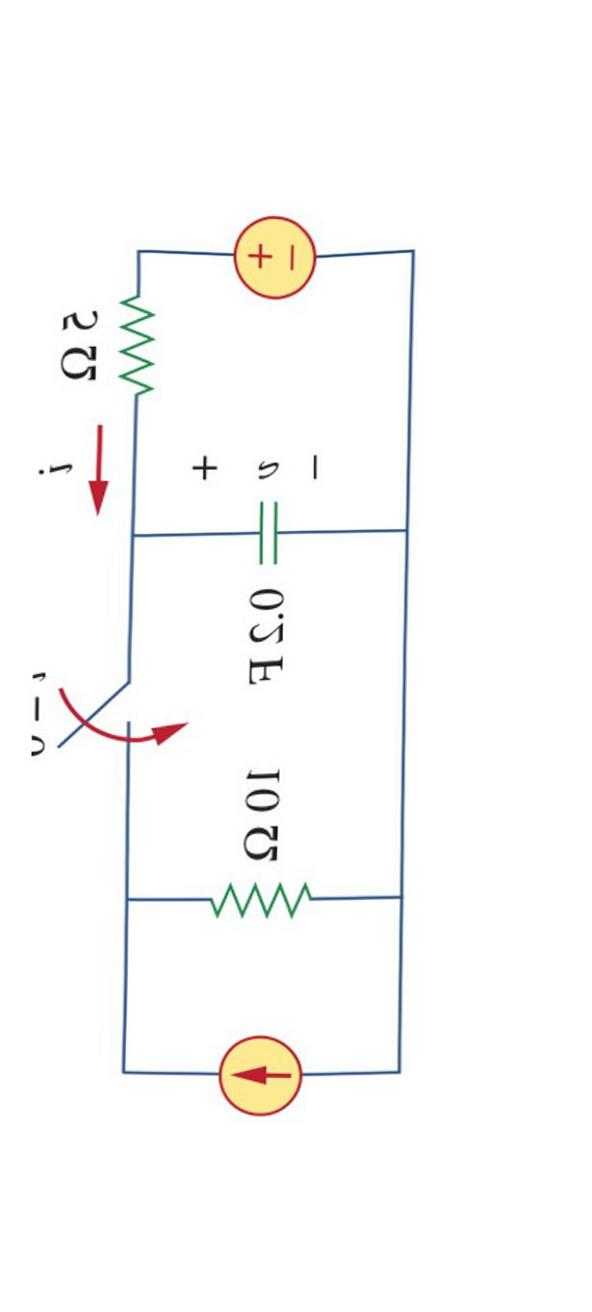Battery: (192, 185, 345, 306)
